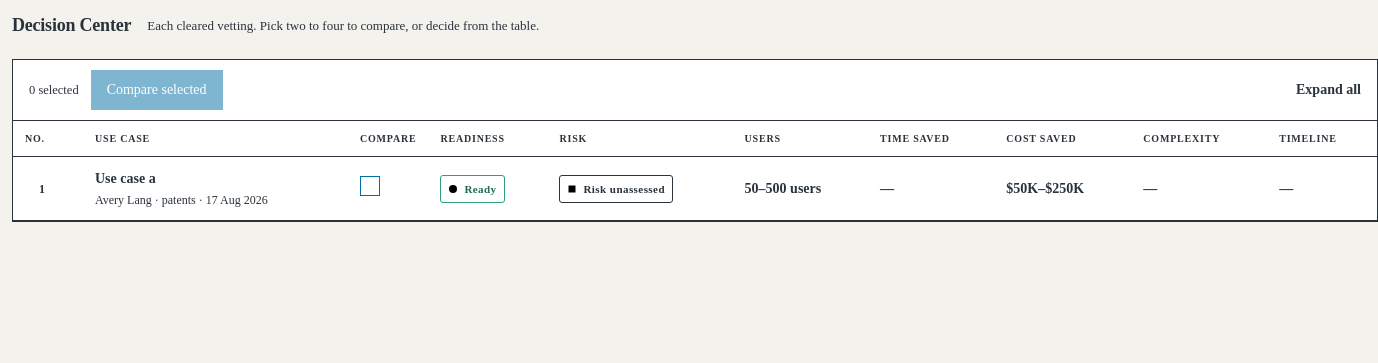
Test: Decision Center on ES2 › opens a row in place with the reason fields and the record link
This screenshot has width=1378, height=363.
Click the row that starts with "Use case a" at coordinates (695, 188), box top-left (13, 156), bottom-right (1377, 220)
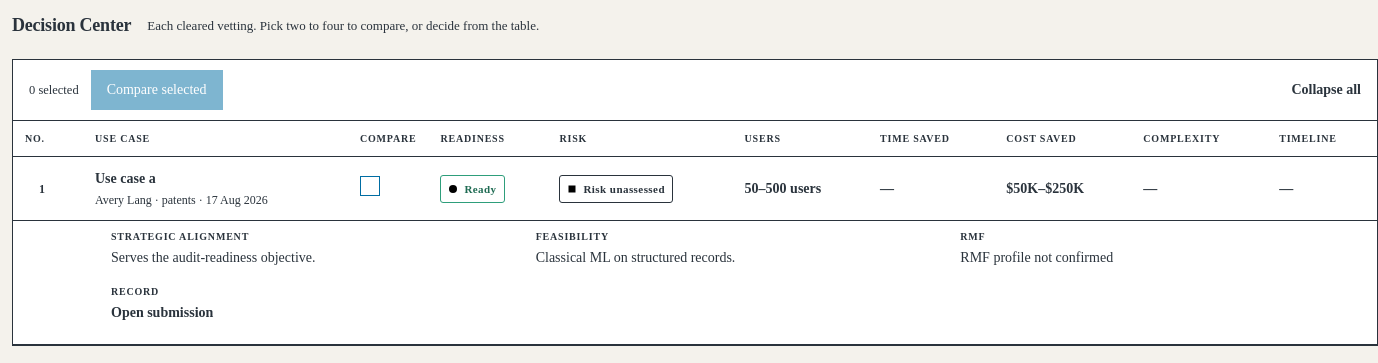
Expected: the text "Serves the audit-readiness objective." is shown, top-left (111, 250), bottom-right (316, 265)
Expected: the text "Classical ML on structured records." is shown, top-left (536, 250), bottom-right (735, 265)
Expected: the link to "/submissions/a" reads "Open submission", top-left (111, 305), bottom-right (213, 320)
